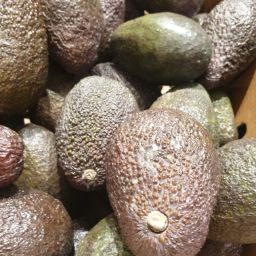Avocado: (28, 7, 241, 256), (97, 103, 217, 256), (2, 3, 132, 106), (180, 104, 256, 256), (90, 8, 238, 86), (57, 72, 145, 199), (4, 113, 76, 256), (181, 2, 256, 98)
